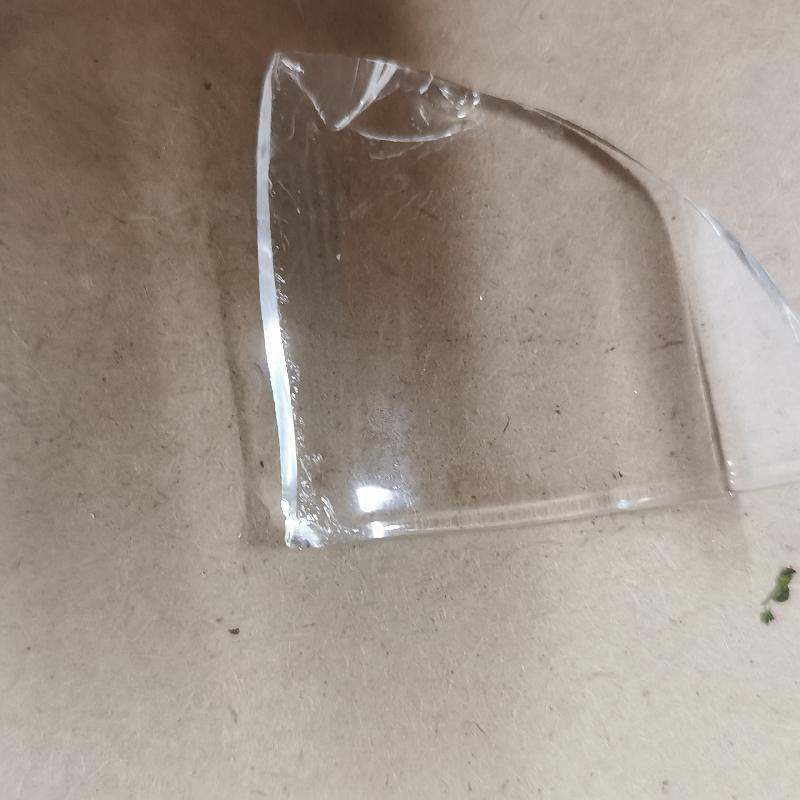glass: (249, 45, 800, 549)
